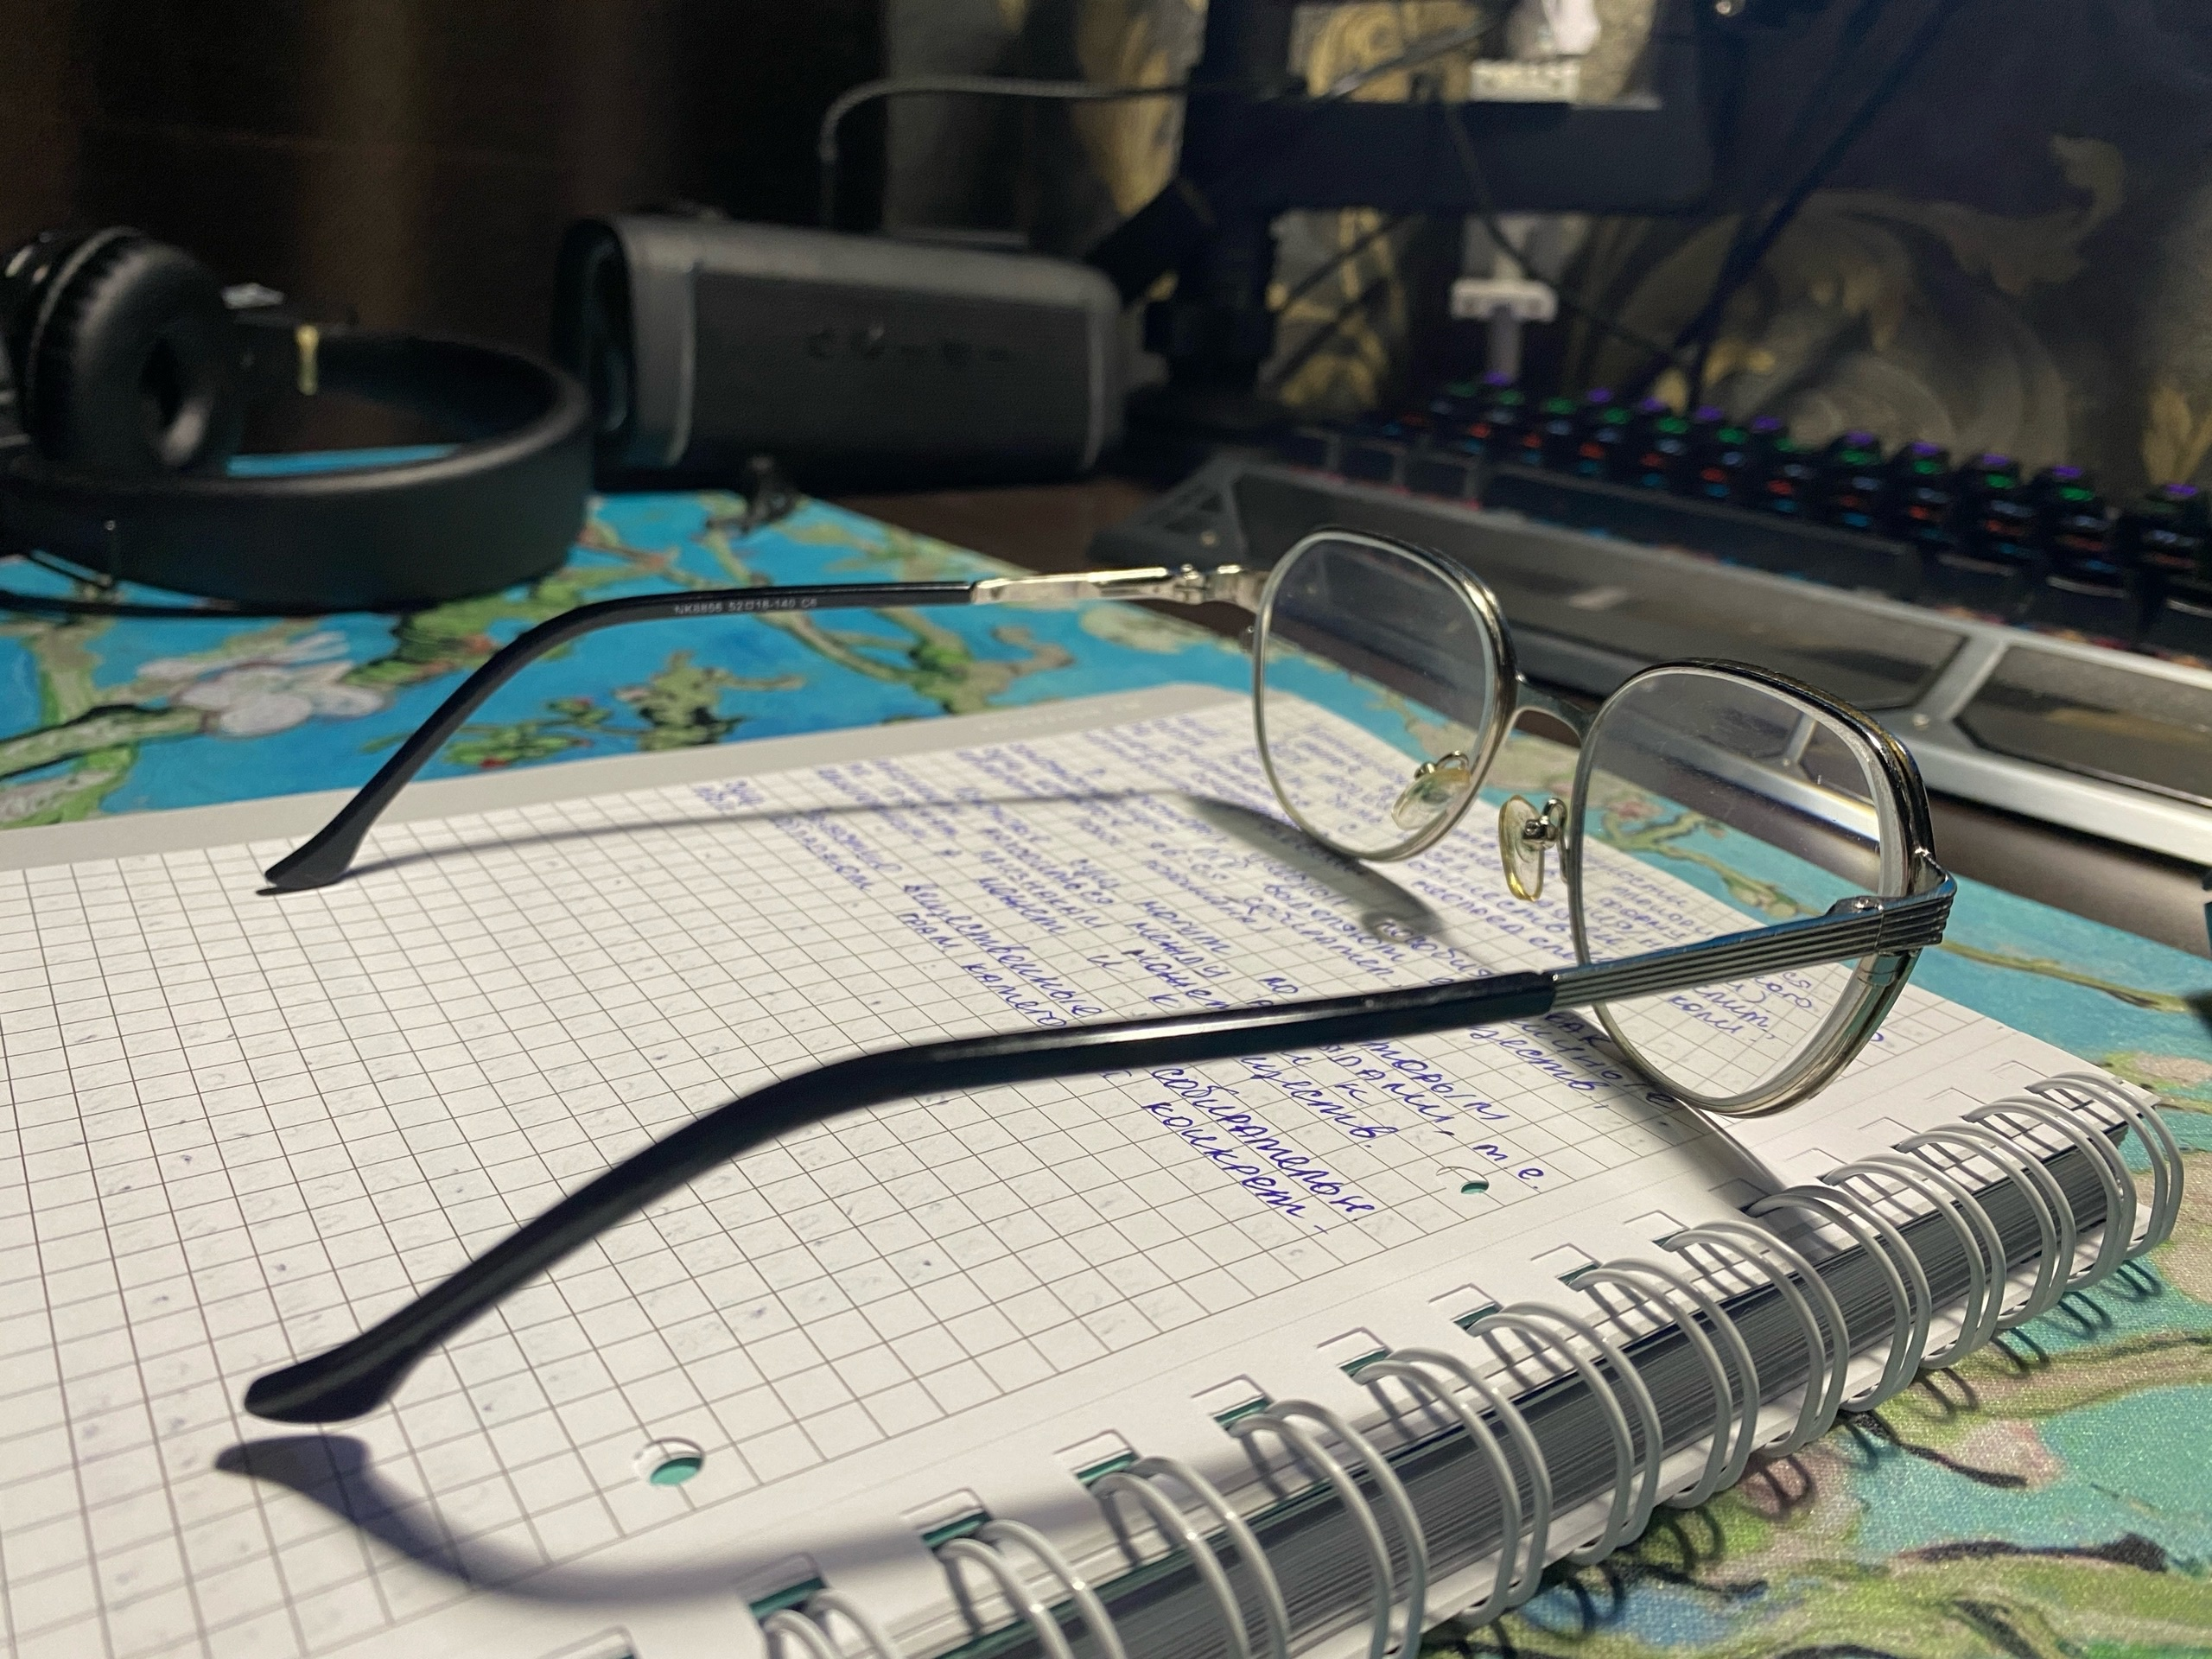glasses: (246, 530, 1952, 1424)
